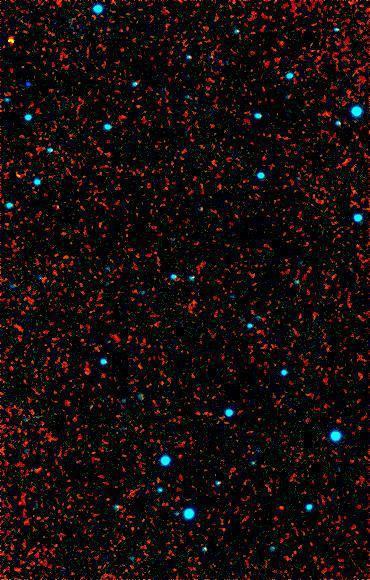star: (0, 26, 23, 56)
